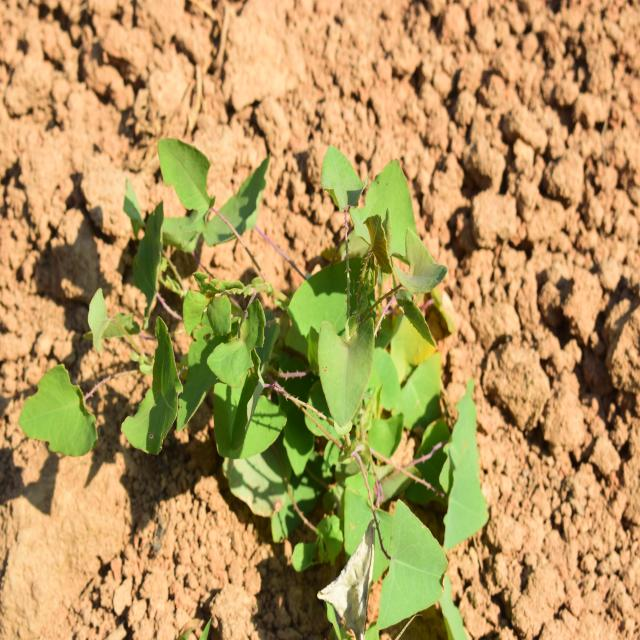Asiatic_Smartweed: (280, 146, 451, 414), (124, 289, 294, 469), (367, 396, 495, 614), (126, 136, 272, 283), (16, 350, 124, 475)
